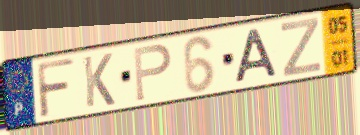6: (181, 33, 219, 95)
A: (233, 26, 281, 86)
F: (35, 56, 77, 120)
K: (81, 51, 117, 110)
P: (131, 42, 173, 104)
Z: (279, 15, 323, 79)
